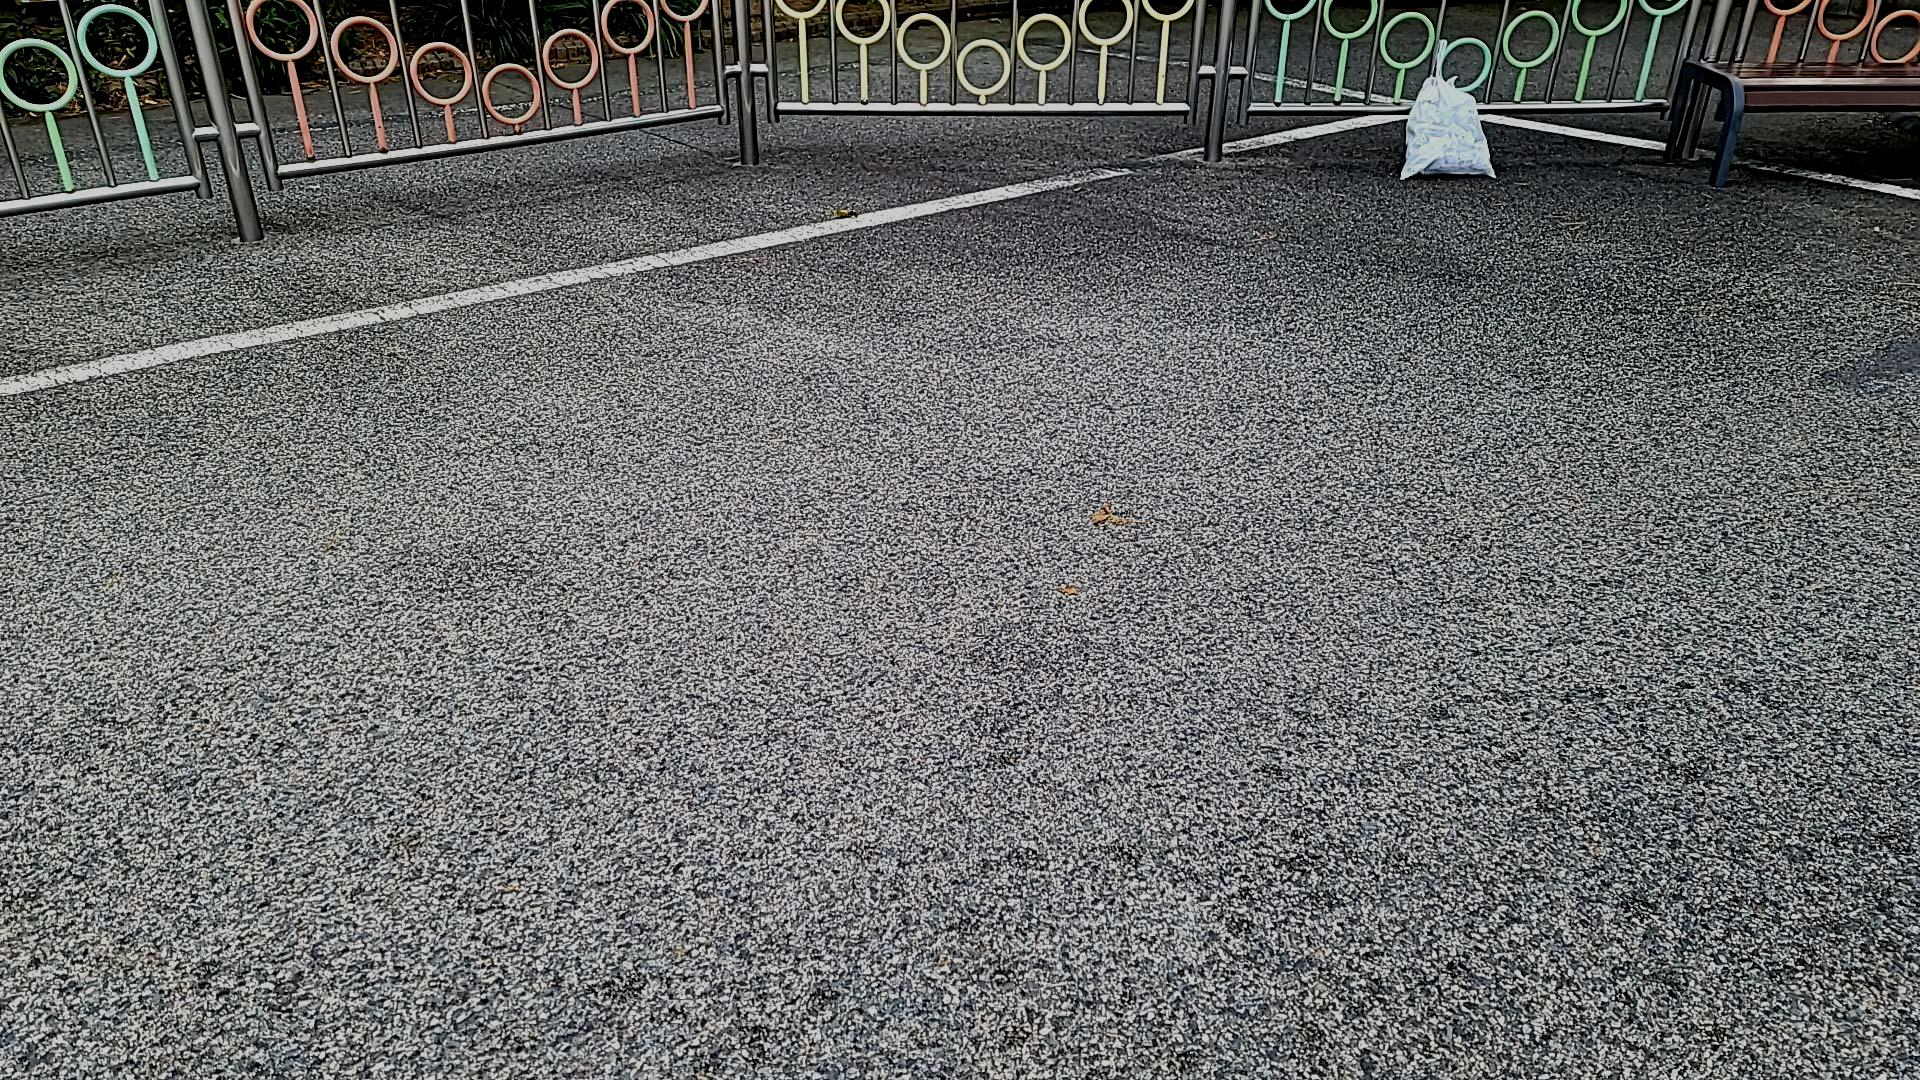white_bag: (1385, 34, 1501, 187)
